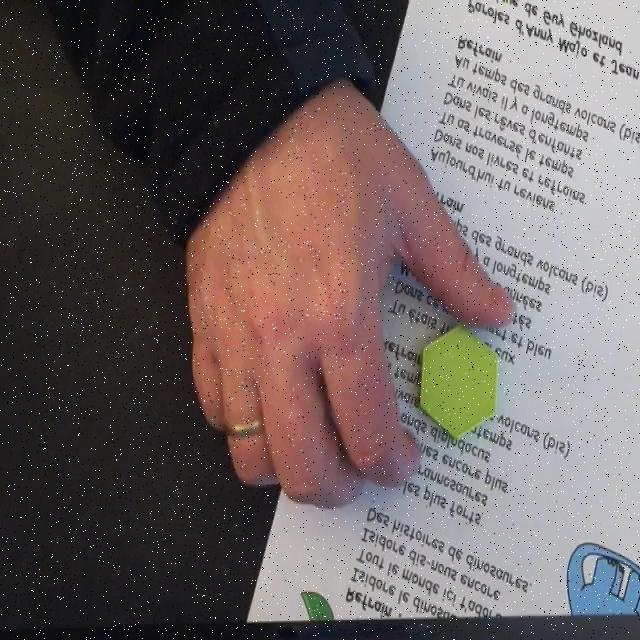hexagon: (418, 325, 500, 439)
